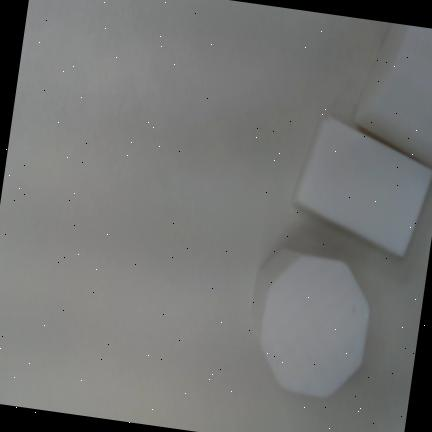Paralelepipedo: (290, 113, 432, 259), (352, 24, 432, 168)
Prisma_hexagonal: (251, 250, 372, 398)
